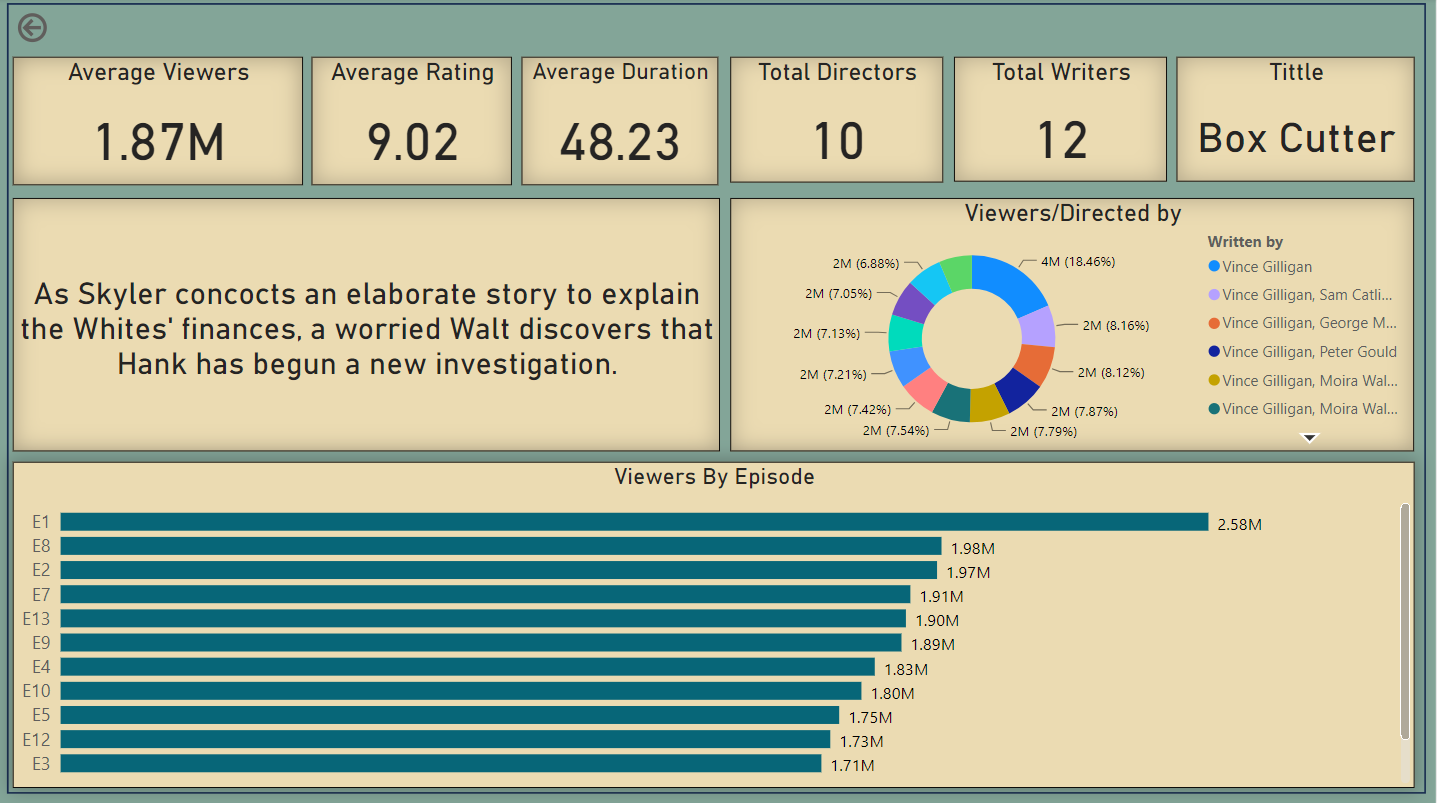

The dashboard page shown, as its layout file describes it:
{"tool":"powerbi","page":{"name":"Season 4","canvas":[1280,720],"ordinal":4},"visuals":[{"type":"card","title":"Average Viewers","fields":{"Values":["breaking_bad.AverageViewsSeasson4"]},"box":[12.1,51.9,258.1,114.6],"z":0},{"type":"card","title":"Average Rating","fields":{"Values":["breaking_bad.Average Rating Season 4"]},"box":[278.6,51.9,178.5,114.6],"z":1000},{"type":"card","title":"Average Duration","fields":{"Values":["breaking_bad.Average Duration Season 4"]},"box":[465.5,51.9,174.9,114.6],"z":2000},{"type":"card","title":"Total Directors","fields":{"Values":["Count(breaking_bad.Directed by)"]},"box":[651.3,51.9,189.3,112.2],"z":3000},{"type":"card","fields":{"Values":["Min(breaking_bad.Summary)"]},"box":[12.1,178.5,629.5,225.5],"z":4000},{"type":"donutChart","title":"Viewers/Directed by","fields":{"Y":["Sum(breaking_bad.US.viewers_million)"],"Category":["breaking_bad.Written by"]},"box":[651.3,178.5,609,225.5],"z":5000},{"type":"barChart","title":"Viewers By  Episode","fields":{"Category":["breaking_bad.Episode"],"Y":["Sum(breaking_bad.US.viewers_million)"]},"box":[12.1,412.5,1248.2,290.7],"z":6000},{"type":"actionButton","box":[12.1,8.4,84.4,35],"z":7000},{"type":"card","title":"Total Writers","fields":{"Values":["Count(breaking_bad.Written by)"]},"box":[850.3,51.9,189.3,111],"z":8000},{"type":"card","title":"Tittle","fields":{"Values":["Min(breaking_bad.Title)"]},"box":[1048,51.9,212.3,111],"z":9000}]}

Visuals, with their boxes in screenshot pixels (x1, y1, x2, y2), scaled from the page's 1280x720 canvas onto the 1437x803 screenshot:
"Average Viewers" card: [14,58,303,186]
"Average Rating" card: [313,58,513,186]
"Average Duration" card: [523,58,719,186]
"Total Directors" card: [731,58,944,183]
card - Min(breaking_bad.Summary): [14,199,720,451]
"Viewers/Directed by" donutChart: [731,199,1415,451]
"Viewers By  Episode" barChart: [14,460,1415,784]
actionButton: [14,9,108,48]
"Total Writers" card: [955,58,1167,182]
"Tittle" card: [1177,58,1415,182]
